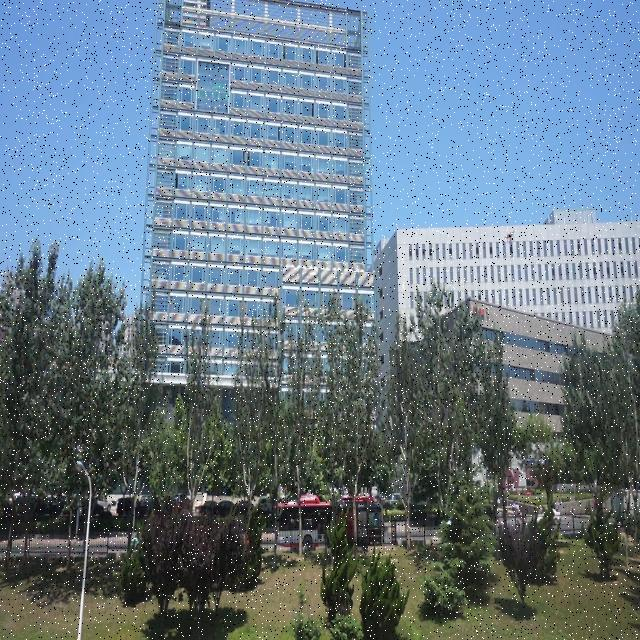UAV: (504, 229, 516, 243)
